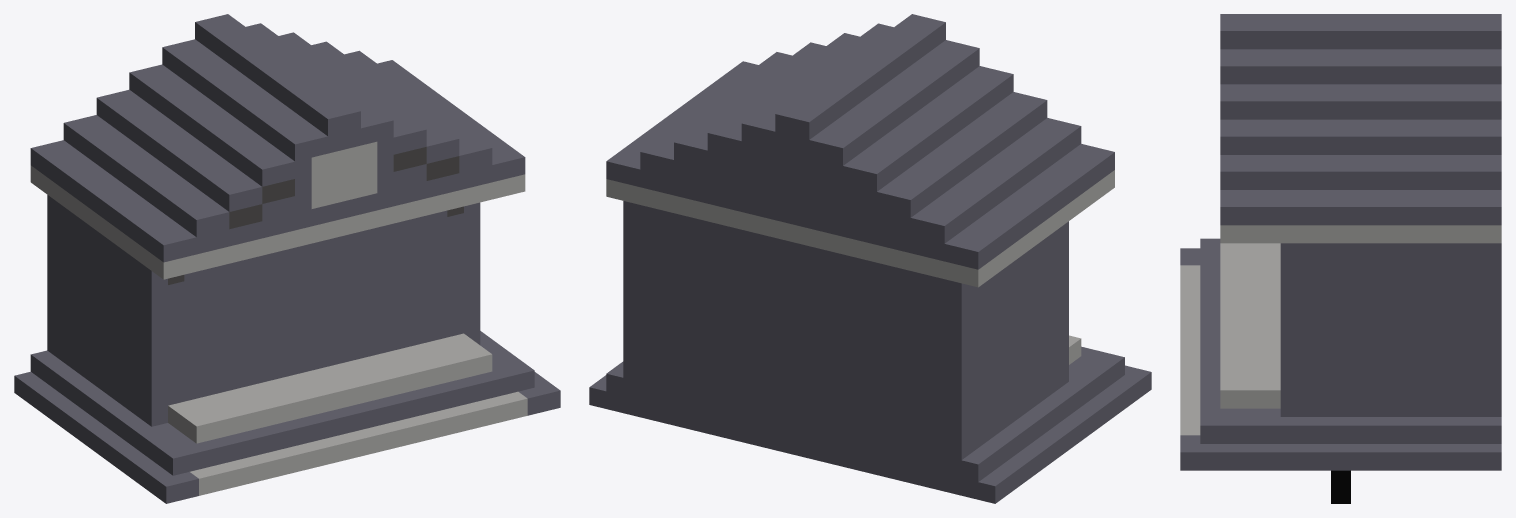
Rendered from bank.glb.
3 renders of one model, left to right at view 1: azimuth 30°, elevation 25°; view 2: azimuth 150°, elevation 25°; view 3: azimuth 270°, elevation 25°, orthographic. The views are drawn at different scales.
Parts seen in each view (by area): view 1: base, f1, f2; view 2: base; view 3: base, f1, glasses.
Part boxes in pixels (x1,y1,x2,y2): base: (14, 14, 560, 503); f1: (190, 141, 527, 495); f2: (168, 147, 463, 284); base: (589, 14, 1151, 503); base: (1180, 14, 1501, 470); f1: (1180, 265, 1200, 435); glasses: (1331, 470, 1350, 503).
Size of the model in its own units: 24 by 22 by 16.
8 materials, 8 textured.
